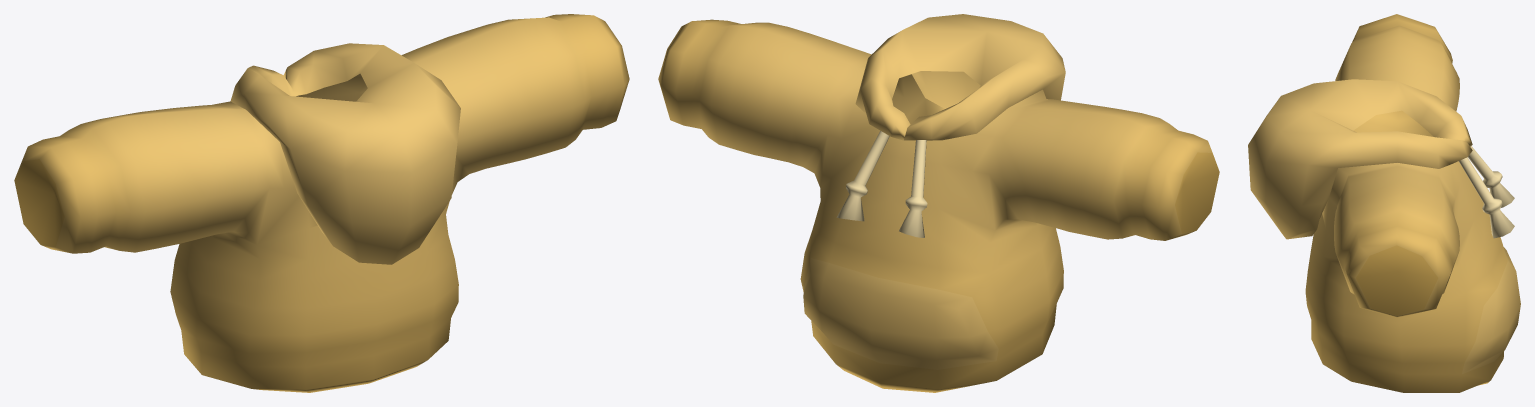
The model's file is Top_18.fbx.
The picture shows the model from 3 angles, left to right: view 1: azimuth 30°, elevation 25°; view 2: azimuth 150°, elevation 25°; view 3: azimuth 270°, elevation 25°; orthographic projection. The views are drawn at different scales.
Parts seen in each view (by area): view 1: Top_18; view 2: Top_18; view 3: Top_18.
Boxes of the visible parts, left/top/right/bottom form: Top_18: left=14, top=14, right=629, bottom=392; Top_18: left=658, top=14, right=1219, bottom=392; Top_18: left=1248, top=14, right=1520, bottom=392.
Size of the model in its own units: 99.63 by 52.57 by 50.2.
